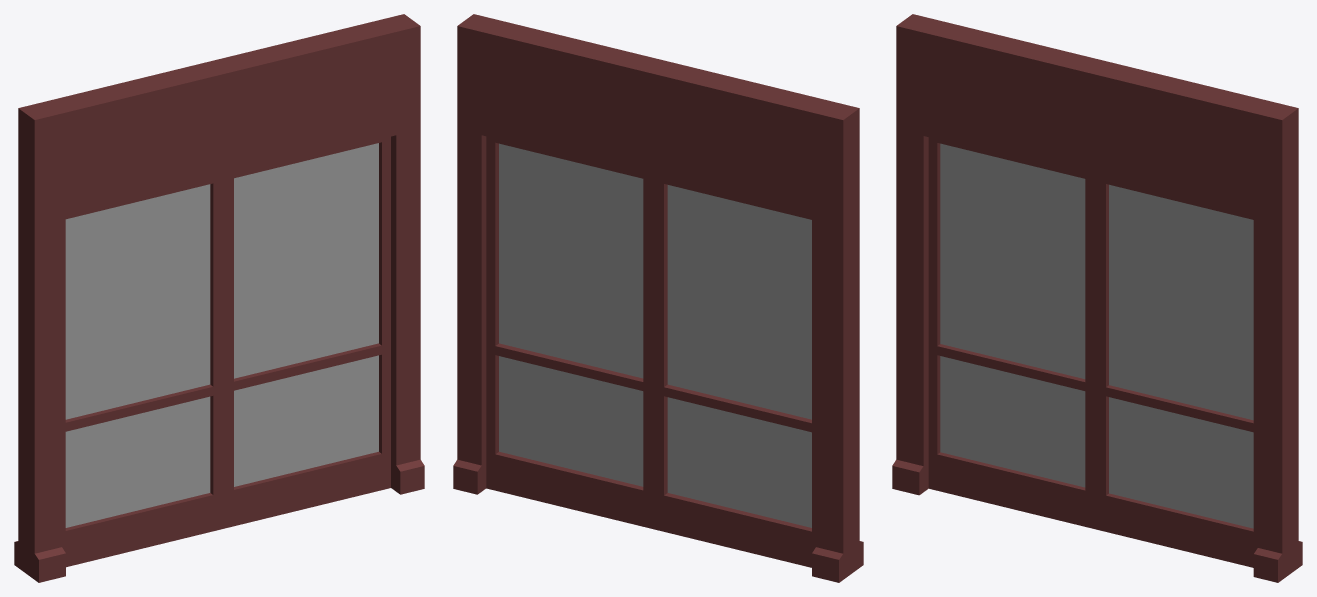
The model's file is SM_WallWindow.FBX.
The picture shows the model from 3 angles, left to right: view 1: azimuth 30°, elevation 25°; view 2: azimuth 150°, elevation 25°; view 3: azimuth 330°, elevation 25°; orthographic projection.
Visible parts, largest first — view 1: pPlane3; view 2: pPlane3; view 3: pPlane3.
Part boxes in pixels (<box>): pPlane3: <box>14,14,424,582</box>; pPlane3: <box>453,14,863,582</box>; pPlane3: <box>892,14,1302,582</box>.
Size of the model in its own units: 288 by 328 by 31.87.
